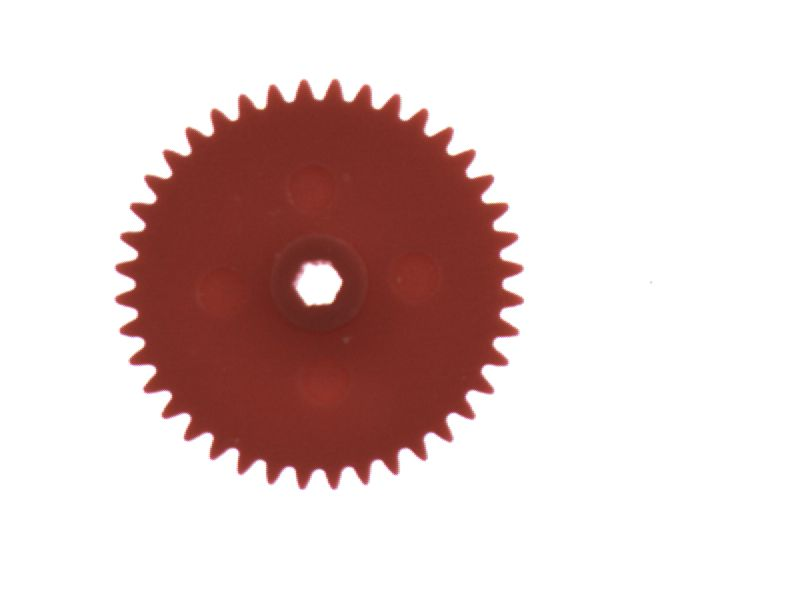good_product: (98, 71, 535, 498)
